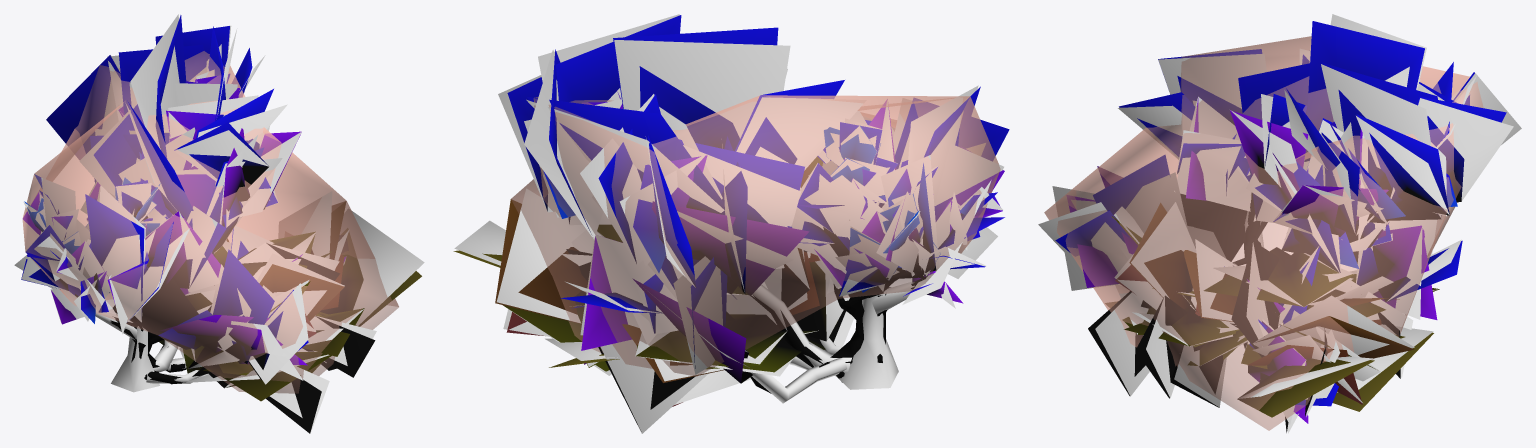
Rendered from Juniper_ancient_01.dae.
3 renders of one model, left to right at view 1: azimuth 30°, elevation 25°; view 2: azimuth 150°, elevation 25°; view 3: azimuth 270°, elevation 25°, orthographic. The views are drawn at different scales.
Parts seen in each view (by area): view 1: Colmesh-1, Juniper_ancient_01_a850, Juniper_ancient_01_a350; view 2: Colmesh-1, Juniper_ancient_01_a350, Juniper_ancient_01_a850; view 3: Colmesh-1, Juniper_ancient_01_a850, Juniper_ancient_01_a350.
Part boxes in pixels (x1,y1,x2,y2): Colmesh-1: (22,51,398,393); Juniper_ancient_01_a850: (21,15,421,433); Juniper_ancient_01_a350: (14,14,424,432); Colmesh-1: (511,95,1000,403); Juniper_ancient_01_a350: (454,14,1003,433); Juniper_ancient_01_a850: (453,15,1009,431); Colmesh-1: (1044,36,1483,430); Juniper_ancient_01_a850: (1055,21,1506,432); Juniper_ancient_01_a350: (1038,14,1521,433).
Size of the model in its own units: 9.57 by 9.18 by 7.47.
